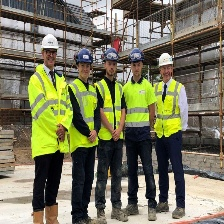helmet: (38, 31, 60, 56), (156, 50, 176, 70), (102, 46, 121, 65), (74, 47, 92, 66), (127, 47, 144, 67)
person: (28, 29, 68, 224), (152, 52, 190, 217), (122, 48, 159, 217), (93, 43, 126, 224), (71, 49, 96, 224)
vest: (31, 64, 69, 148), (69, 75, 98, 146), (155, 75, 185, 139), (97, 74, 123, 141), (124, 77, 151, 139)
